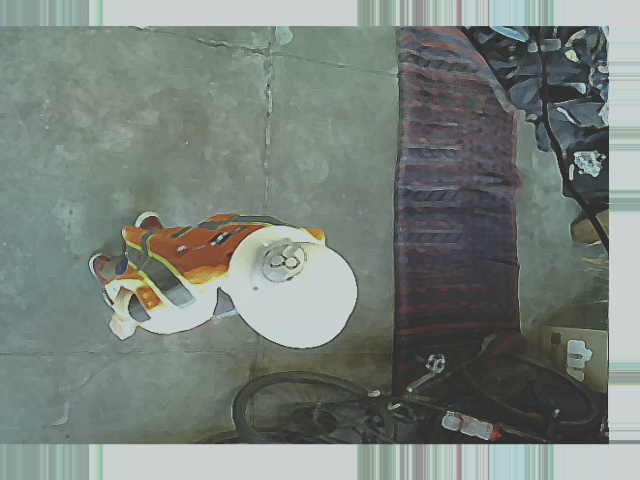eight: (260, 242, 304, 282)
